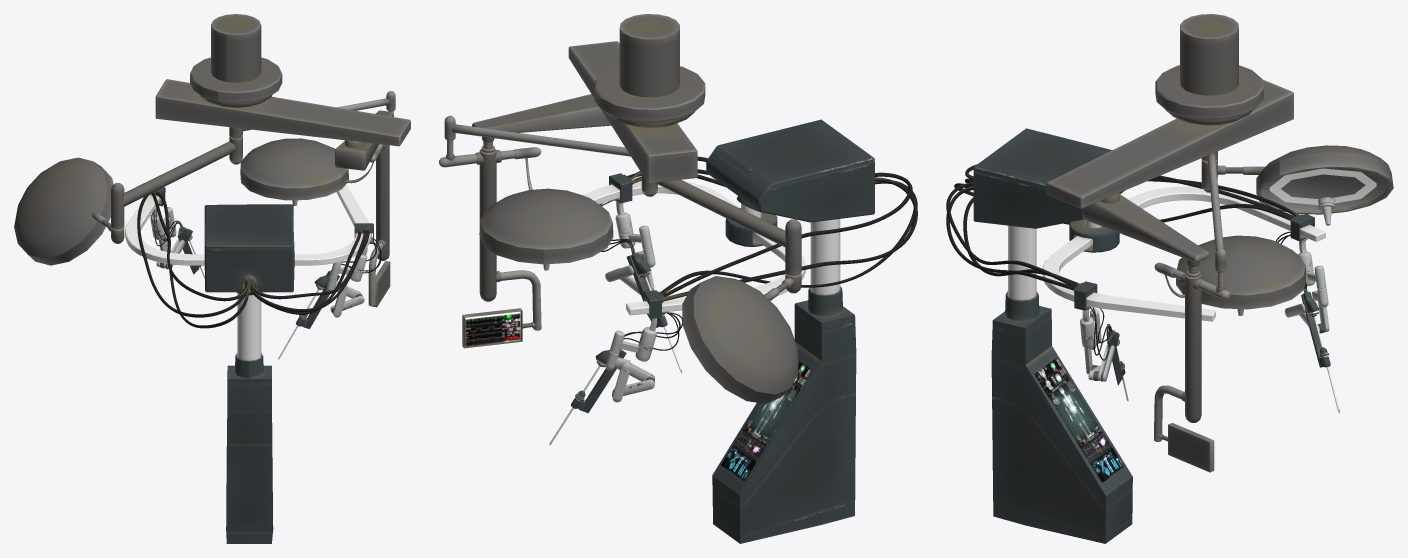
Rendered from operating-light.glb.
3 renders of one model, left to right at view 1: azimuth 30°, elevation 25°; view 2: azimuth 150°, elevation 25°; view 3: azimuth 270°, elevation 25°, orthographic. The views are drawn at different scales.
Visible parts, largest first — view 1: LAMP_LP_LAMP_03_lowLAMP_03polySurface14; view 2: LAMP_LP_LAMP_03_lowLAMP_03polySurface14; view 3: LAMP_LP_LAMP_03_lowLAMP_03polySurface14.
Part boxes in pixels (<box>): LAMP_LP_LAMP_03_lowLAMP_03polySurface14: <box>14,14,410,543</box>; LAMP_LP_LAMP_03_lowLAMP_03polySurface14: <box>439,14,917,543</box>; LAMP_LP_LAMP_03_lowLAMP_03polySurface14: <box>946,14,1393,543</box>.
Bounding box in the file's own units: 232 × 296 × 230.
2 materials, 2 textured.
